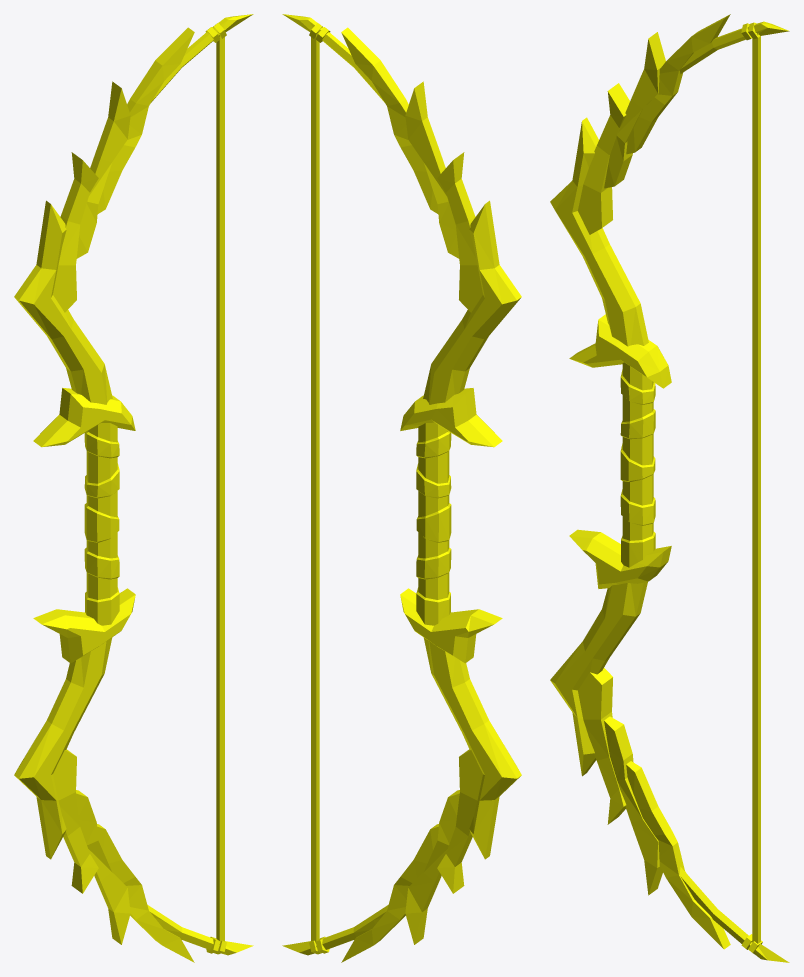
The model's file is _bow_21.glb.
3 renders of one model, left to right at view 1: azimuth 30°, elevation 25°; view 2: azimuth 150°, elevation 25°; view 3: azimuth 330°, elevation 25°, orthographic.
Visible parts, largest first — view 1: bow_21; view 2: bow_21; view 3: bow_21.
Part boxes in pixels (<box>): bow_21: <box>14,14,253,962</box>; bow_21: <box>282,14,521,962</box>; bow_21: <box>550,14,789,962</box>.
Size of the model in its own units: 10619 by 39970 by 1566.
